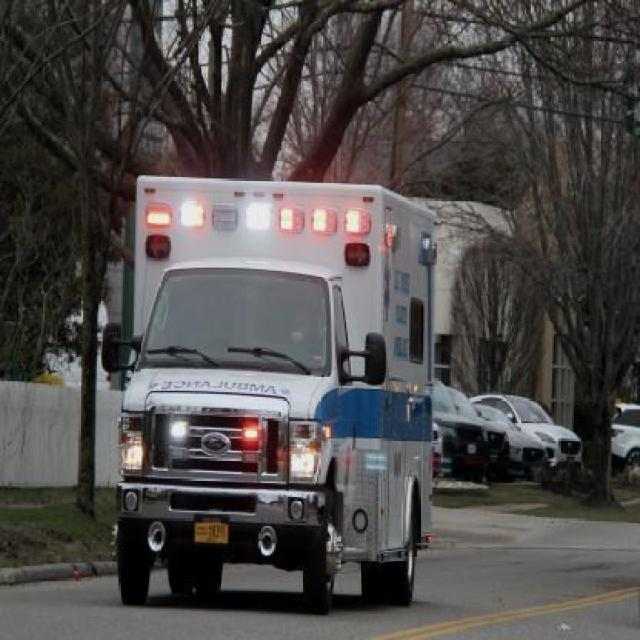Ambulance: (123, 168, 456, 632)
